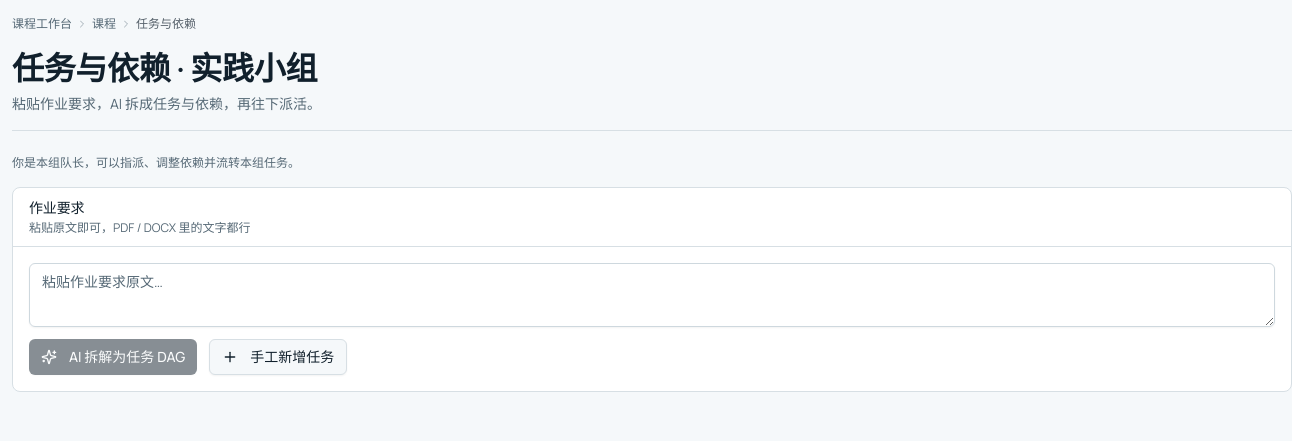
任务页 AI 拆解：网络异常必须可见、可恢复、不丢输入 › 504 的 HTML 网关页（非 JSON）也不崩，同样出可见错误并保留输入
In the text box with placeholder "粘贴作业要求原文…": (652, 295) [29, 263, 1275, 327], type "以「校园二手交易」为题，完成需求分析、原型设计与可用性测试报告。"
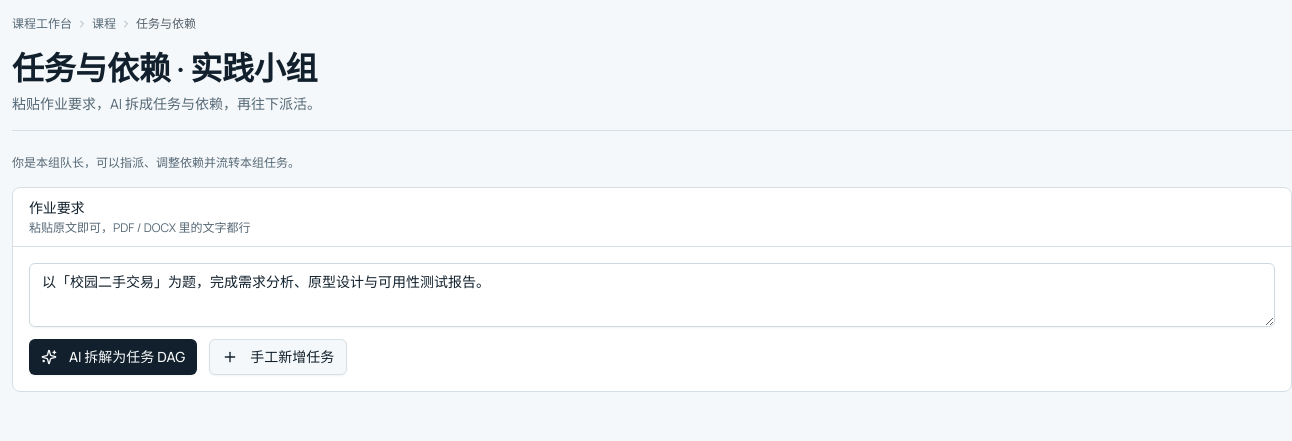
Now the button "AI 拆解为任务 DAG" is enabled
Click the button "AI 拆解为任务 DAG": click(113, 357) [29, 339, 197, 375]
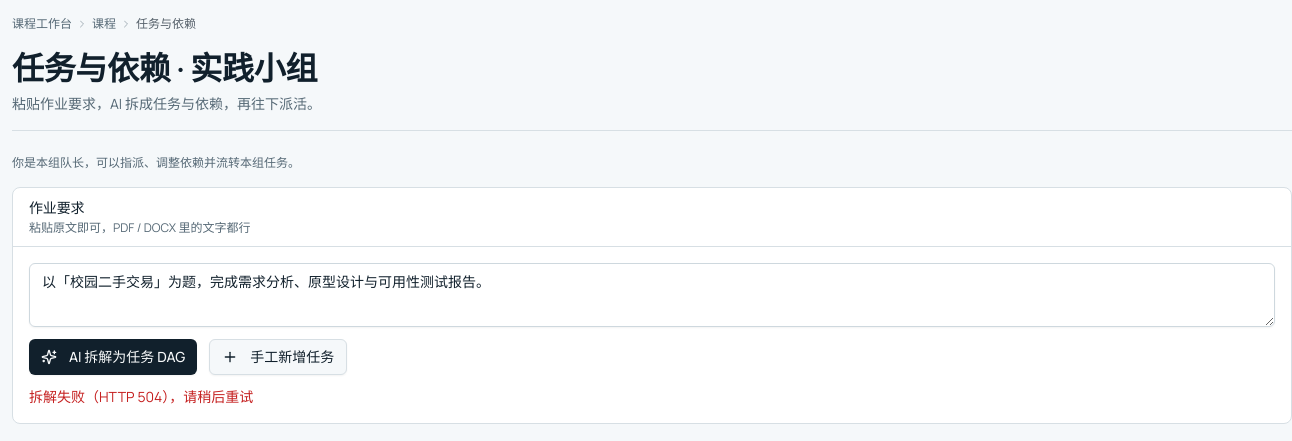
Now the button "AI 拆解为任务 DAG" is enabled, box [29, 339, 197, 375]
Now the message shows "拆解失败（HTTP 504）", box [29, 387, 253, 406]
